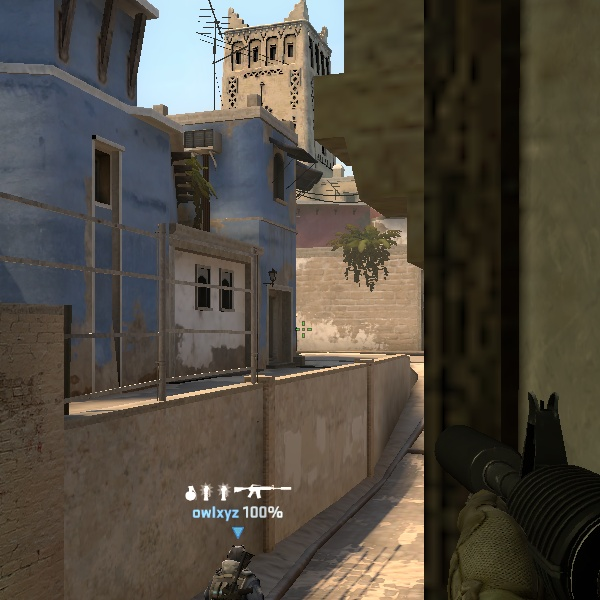ct_body: (192, 546, 288, 600)
ct_head: (216, 536, 264, 582)
